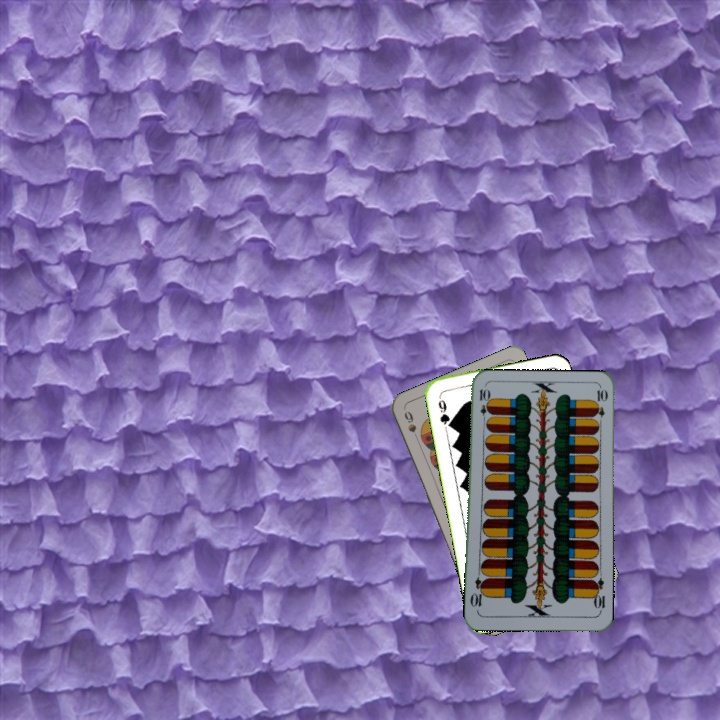E10: (588, 574, 607, 615), (476, 385, 489, 425)
G9: (434, 392, 454, 430)
S9: (400, 407, 422, 446)
